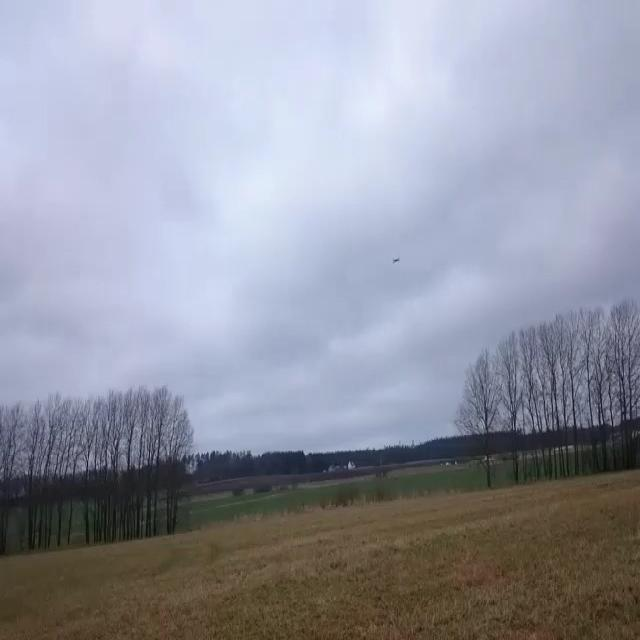drone: (393, 257, 400, 264)
